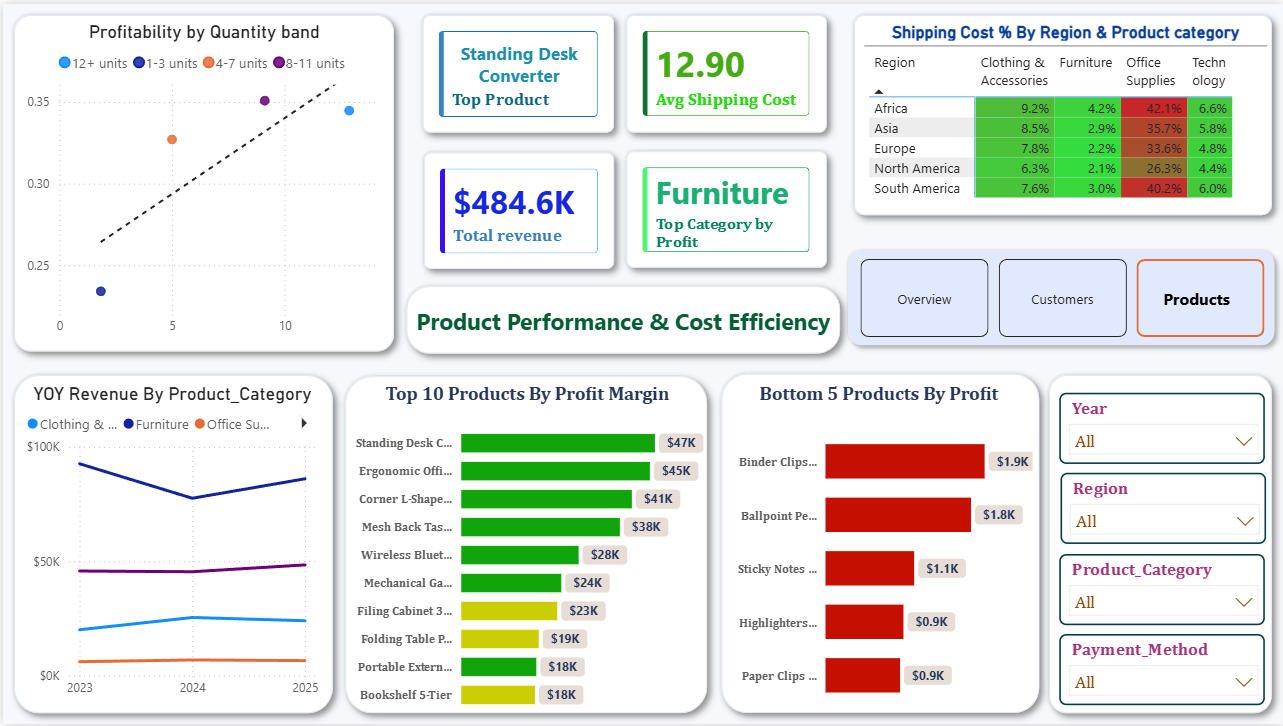

The page's visual inventory and layout, read from the dashboard file:
{"tool":"powerbi","page":{"name":"Products ","canvas":[1280,720],"ordinal":2},"visuals":[{"type":"shape","box":[0,0,402,358.4],"z":0},{"type":"shape","box":[839.7,0,440,222.2],"z":1000},{"type":"shape","box":[1035.1,359.7,244.9,360.3],"z":2000},{"type":"shape","box":[613.1,0,222.2,139.6],"z":2500,"group":"g1"},{"type":"shape","box":[409.9,137.2,212.2,138.5],"z":2500,"group":"g3"},{"type":"shape","box":[0,359.7,340.9,360.3],"z":3000},{"type":"shape","box":[331.1,361,384,359],"z":4000},{"type":"shape","box":[707,358.8,339.9,361.2],"z":5000},{"type":"shape","box":[408.8,0,213.3,139.6],"z":5500,"group":"g4"},{"type":"shape","box":[613.1,136.1,222.2,138.5],"z":5500,"group":"g2"},{"type":"cardVisual","fields":{"Data":["All Measures.Top Product"]},"box":[423.5,15.4,184,110.3],"z":6000,"group":"g4"},{"type":"cardVisual","fields":{"Data":["All Measures.Avg Shipping Cost"]},"box":[628.4,15.4,191.7,110.3],"z":6000,"group":"g1"},{"type":"barChart","title":"Top 10 Products By Profit Margin","fields":{"Category":["E_Commerce_sales.Product_Name"],"Y":["All Measures.Total revenue"]},"box":[341.7,378.5,366.3,332.8],"z":6000},{"type":"group","id":"g1","title":"Group 1","box":[613.1,0,222.2,139.6],"z":7000,"group":"g5"},{"type":"cardVisual","fields":{"Data":["All Measures.Total Sales"]},"box":[424.5,152.4,183,109.4],"z":7000,"group":"g3"},{"type":"shape","box":[393.1,271.3,455.6,89.3],"z":7000},{"type":"group","id":"g2","title":"Group 2","box":[613.1,136.1,222.2,138.5],"z":8000,"group":"g5"},{"type":"slicer","fields":{"Values":["E_Commerce_sales.Region"]},"box":[1057.4,468.9,205.9,71],"z":8000},{"type":"group","id":"g3","title":"Group 3","box":[409.9,137.2,212.2,138.5],"z":9000,"group":"g5"},{"type":"cardVisual","fields":{"Data":["All Measures.Top Category by Profit"]},"box":[628.4,151.3,191.7,109.4],"z":9000,"group":"g2"},{"type":"slicer","fields":{"Values":["Date.Year"]},"box":[1056,388.2,205.9,71],"z":9000},{"type":"group","id":"g4","title":"Group 4","box":[408.8,0,213.3,139.6],"z":10000,"group":"g5"},{"type":"slicer","fields":{"Values":["E_Commerce_sales.Payment_Method"]},"box":[1056,630.3,205.9,71],"z":10000},{"type":"slicer","fields":{"Values":["E_Commerce_sales.Product_Category"]},"box":[1056,549.6,205.9,71],"z":11000},{"type":"barChart","title":"Bottom 5 Products By Profit","fields":{"Category":["E_Commerce_sales.Product_Name"],"Y":["All Measures.Total revenue"]},"box":[722.5,378.5,307.1,332.8],"z":12000},{"type":"pivotTable","title":"Shipping Cost % By Region & Product category","fields":{"Columns":["E_Commerce_sales.Product_Category"],"Rows":["E_Commerce_sales.Region"],"Values":["All Measures.Shipping Cost % of Sales"]},"box":[860.9,17.9,403.1,192.1],"z":13000},{"type":"shape","box":[836.2,237.5,443.8,112.5],"z":13500},{"type":"scatterChart","title":"Profitability by Quantity  band","fields":{"Series":["E_Commerce_sales.Quantity  band"],"X":["Avg(E_Commerce_sales.Quantity)"],"Y":["All Measures.Avg Profit Margin %"]},"box":[19,17.9,365.1,322.7],"z":14000},{"type":"lineChart","title":"YOY Revenue By Product Categories ","fields":{"Category":["Date.Year"],"Series":["E_Commerce_sales.Product_Category"],"Y":["All Measures.Total revenue"]},"box":[19,378.5,301.5,322.7],"z":15000},{"type":"group","id":"g5","title":"Group 5","box":[408.8,0,426.6,275.7],"z":16000},{"type":"pageNavigator","box":[857.5,255,406.2,78.8],"z":18000}]}

Visuals, with their boxes in screenshot pixels (x1, y1, x2, y2), scaled from the page's 1280x720 canvas onto the 1283x726 screenshot:
shape: [0,0,403,361]
shape: [842,0,1282,224]
shape: [1038,363,1282,725]
shape: [615,0,837,141]
shape: [411,138,624,278]
shape: [0,363,342,725]
shape: [332,364,717,725]
shape: [709,362,1049,725]
shape: [410,0,624,141]
shape: [615,137,837,277]
cardVisual - All Measures.Top Product: [424,16,609,127]
cardVisual - All Measures.Avg Shipping Cost: [630,16,822,127]
"Top 10 Products By Profit Margin" barChart: [343,382,710,717]
"Group 1" group: [615,0,837,141]
cardVisual - All Measures.Total Sales: [425,154,609,264]
shape: [394,274,851,364]
"Group 2" group: [615,137,837,277]
slicer - E_Commerce_sales.Region: [1060,473,1266,544]
"Group 3" group: [411,138,624,278]
cardVisual - All Measures.Top Category by Profit: [630,153,822,263]
slicer - Date.Year: [1058,391,1265,463]
"Group 4" group: [410,0,624,141]
slicer - E_Commerce_sales.Payment_Method: [1058,636,1265,707]
slicer - E_Commerce_sales.Product_Category: [1058,554,1265,626]
"Bottom 5 Products By Profit" barChart: [724,382,1032,717]
"Shipping Cost % By Region & Product category" pivotTable: [863,18,1267,212]
shape: [838,239,1282,353]
"Profitability by Quantity  band" scatterChart: [19,18,385,343]
"YOY Revenue By Product Categories " lineChart: [19,382,321,707]
"Group 5" group: [410,0,837,278]
pageNavigator: [860,257,1267,337]
